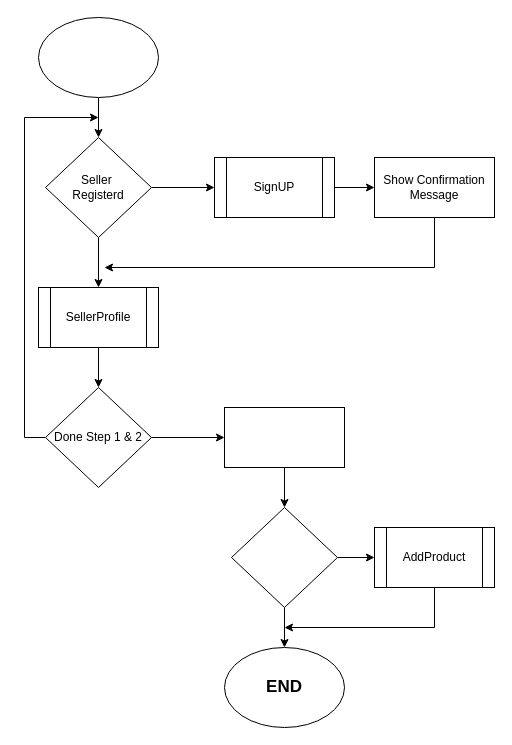
This 512x745 diagram has some shape labels left out. Each missing label, with the centre of its shape:
"Show Confirmation + Congrats message" goes at pixel 284 437.
"Start" goes at pixel 98 57.
"Start adding products" goes at pixel 284 557.
